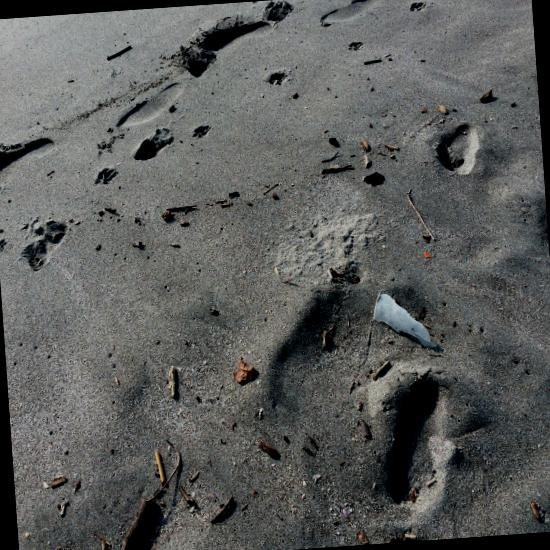Other plastic bottle: (373, 292, 436, 347), (423, 251, 430, 257)
